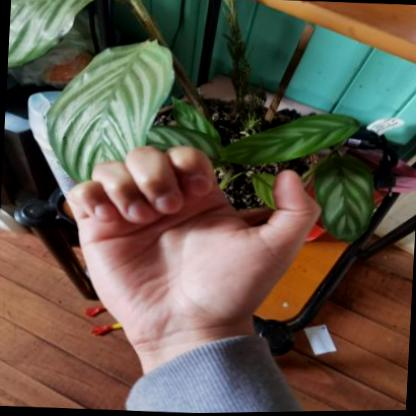E: (46, 129, 339, 365)
